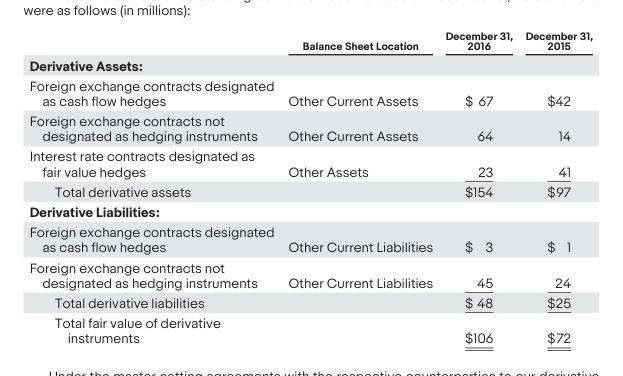table: (28, 29, 591, 344)
table column: (28, 29, 280, 344), (280, 29, 438, 344), (438, 29, 518, 344), (518, 29, 591, 344)
table column header: (28, 29, 591, 54)
table projected row header: (28, 54, 591, 74), (28, 201, 591, 221)
table row: (28, 74, 591, 110), (28, 256, 591, 292), (28, 110, 591, 145), (28, 145, 591, 180), (28, 221, 591, 256), (28, 312, 591, 344), (28, 29, 591, 54), (28, 180, 591, 201), (28, 54, 591, 74), (28, 201, 591, 221), (28, 292, 591, 312)
